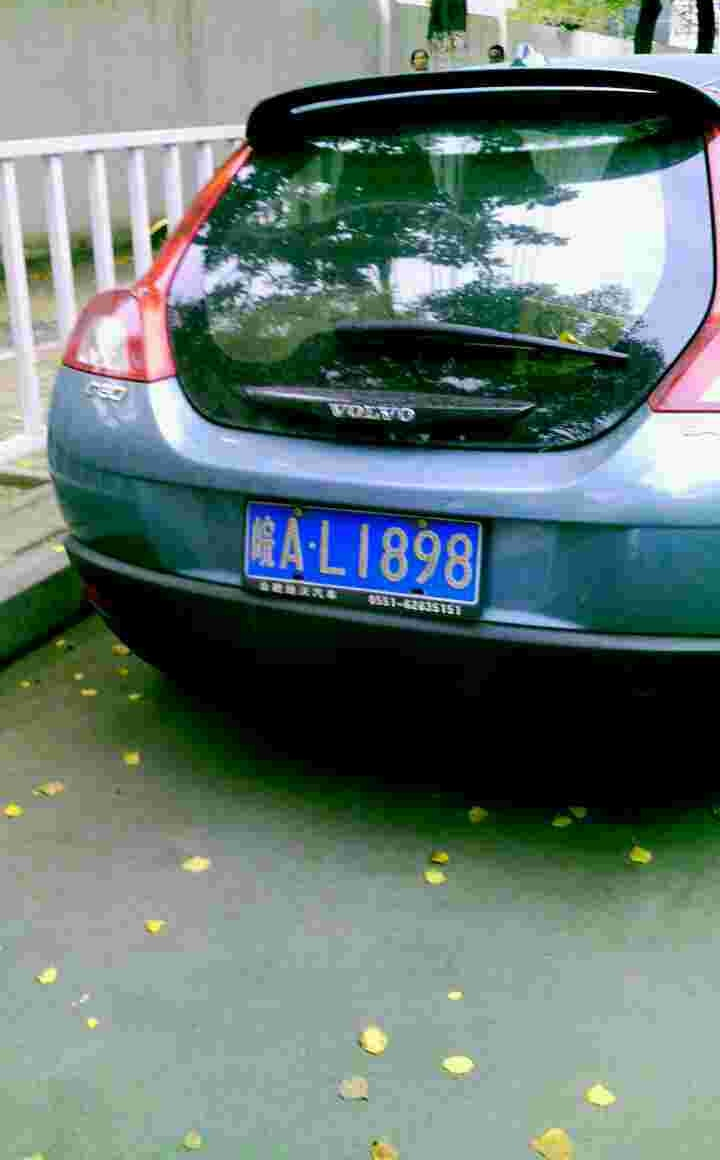license_plate: (238, 505, 489, 610)
